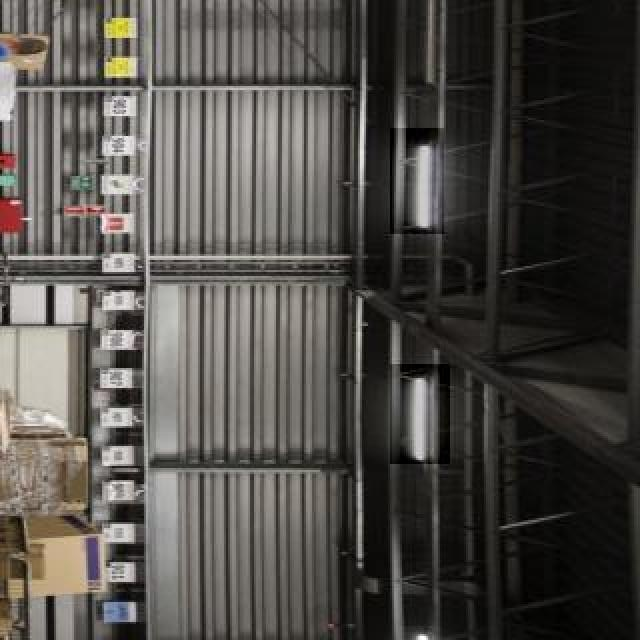fluorescent tube: (385, 366, 442, 466), (394, 127, 443, 240)
